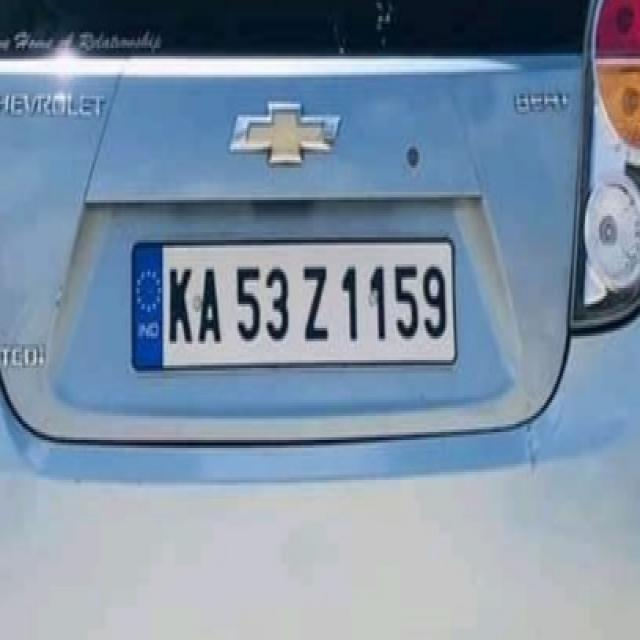1: (336, 260, 364, 347), (365, 260, 390, 344)
3: (262, 258, 292, 344)
5: (230, 257, 262, 352), (394, 262, 419, 340)
9: (422, 256, 446, 350)
A: (194, 258, 223, 350)
K: (164, 253, 196, 353)
Z: (300, 258, 332, 350)
